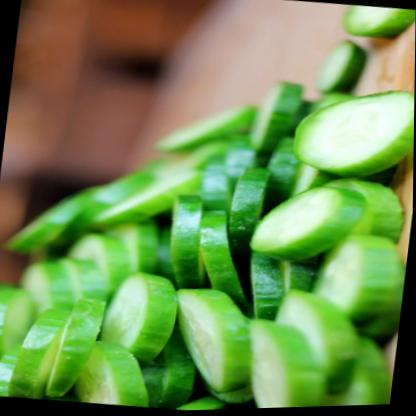cucumber: (277, 74, 415, 192), (226, 292, 350, 411), (248, 181, 378, 266), (89, 268, 191, 373)
